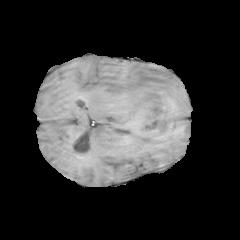glioma: (90, 66, 187, 141)
